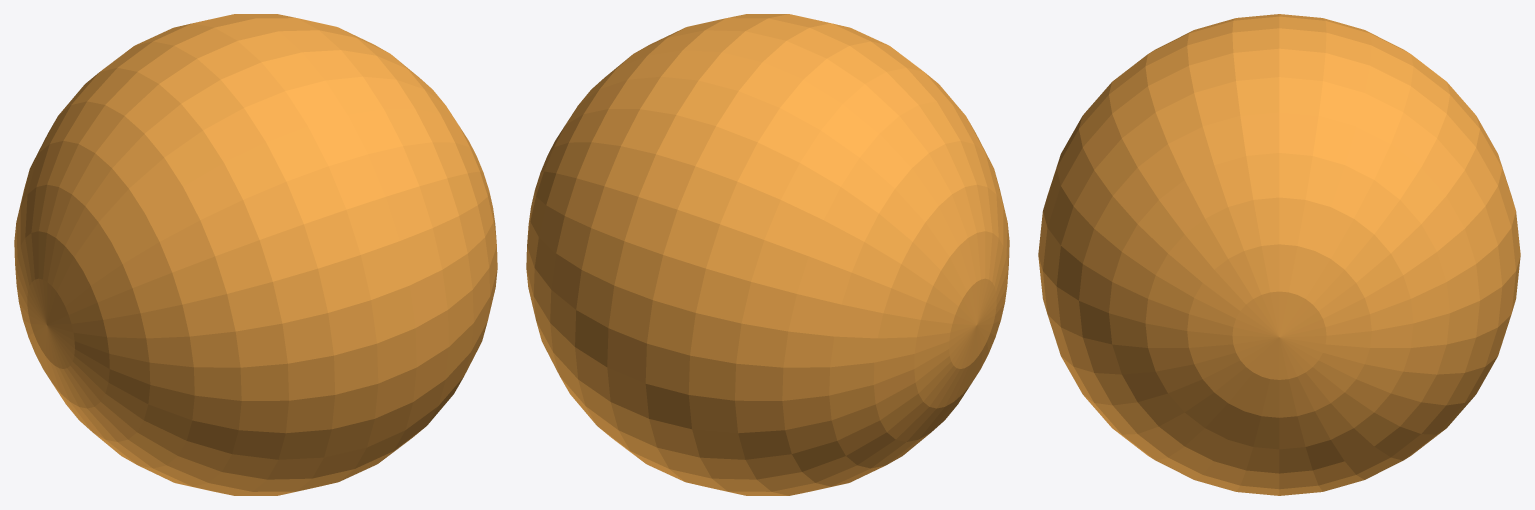
The picture shows the model from 3 angles, left to right: view 1: azimuth 30°, elevation 25°; view 2: azimuth 150°, elevation 25°; view 3: azimuth 270°, elevation 25°; orthographic projection.
Parts seen in each view (by area): view 1: Sphere; view 2: Sphere; view 3: Sphere.
Part boxes in pixels (bbox=[...]): Sphere: bbox=[14, 14, 497, 495]; Sphere: bbox=[526, 14, 1009, 495]; Sphere: bbox=[1038, 14, 1520, 495].
Size of the model in its own units: 199 by 200 by 199.
